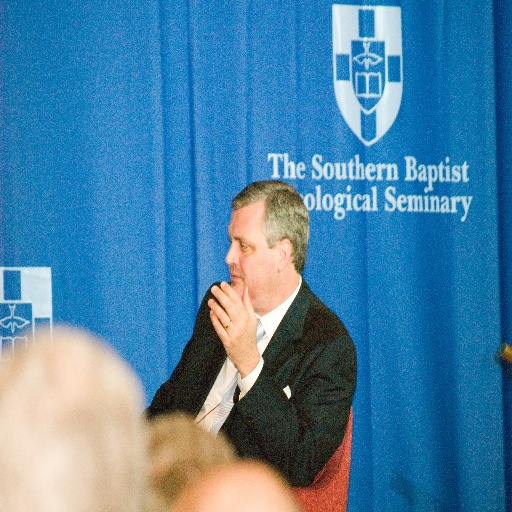hand: (213, 284, 256, 375)
